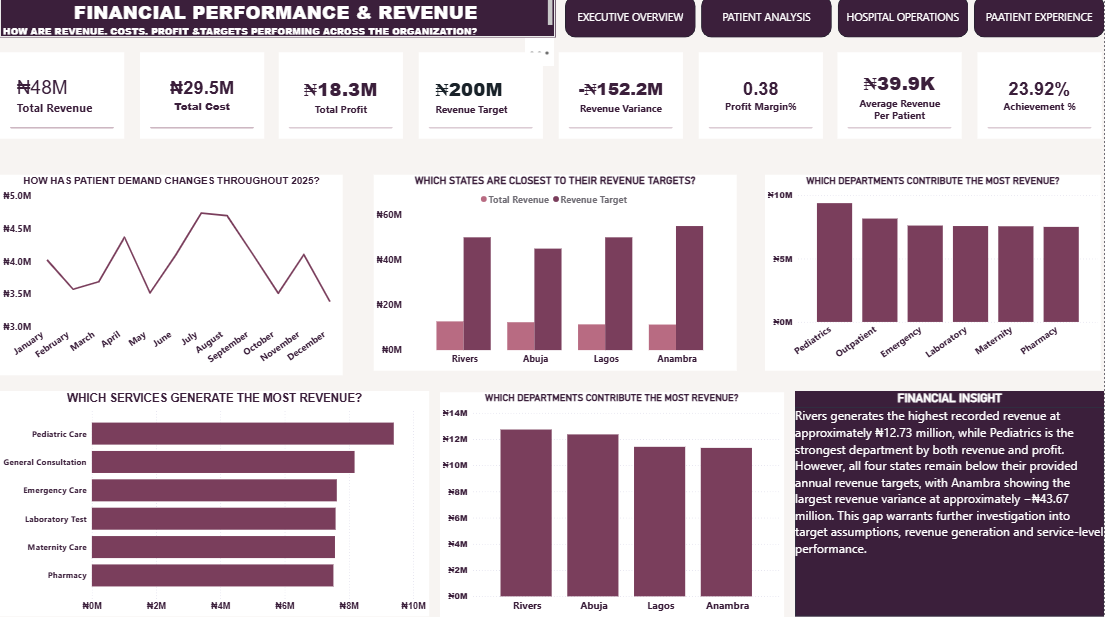

The page's visual inventory and layout, read from the dashboard file:
{"tool":"powerbi","page":{"name":"FINANCIAL PERFORMANCE","canvas":[1920,1080],"ordinal":4},"visuals":[{"type":"textbox","box":[0,0,966,72],"z":0},{"type":"cardVisual","fields":{"Data":["Patient_Visits.Total Revenue"]},"box":[0,98,216,150],"z":1000},{"type":"cardVisual","fields":{"Data":["Dim_Branch.Total Profit"]},"box":[485.7,98,216,150],"z":2000},{"type":"cardVisual","fields":{"Data":["Patient_Visits.Total Cost"]},"box":[242.9,98,216,150],"z":3000},{"type":"cardVisual","fields":{"Data":["Dim_Branch.Revenue Variance"]},"box":[971.4,98,216,150],"z":4000},{"type":"cardVisual","fields":{"Data":["Dim_Branch.Profit Margin%"]},"box":[1214.3,98,216,150],"z":5000},{"type":"cardVisual","fields":{"Data":["Dim_Branch.Revenue Target"]},"box":[728.6,98,216,150],"z":6000},{"type":"cardVisual","fields":{"Data":["Dim_Branch.Average Revenue Per Patient"]},"box":[1457.1,98,216,150],"z":7000},{"type":"lineChart","title":"HOW HAS PATIENT DEMAND CHANGES THROUGHOUT 2025?","fields":{"Category":["Dim_Date.Month"],"Y":["Patient_Visits.Total Revenue"]},"box":[0,311.8,596.1,349],"z":8000},{"type":"clusteredColumnChart","title":"WHICH DEPARTMENTS CONTRIBUTE THE MOST REVENUE?","fields":{"Y":["Patient_Visits.Total Revenue"],"Category":["Dim_Department.Department"]},"box":[1331.4,311.8,584.3,341.2],"z":9000},{"type":"clusteredBarChart","title":"WHICH SERVICES GENERATE THE MOST REVENUE?","fields":{"Y":["Patient_Visits.Total Revenue"],"Category":["Patient_Visits.Service"]},"box":[0,688,746,392],"z":10000},{"type":"clusteredColumnChart","title":"WHICH STATES ARE CLOSEST TO THEIR REVENUE TARGETS?","fields":{"Category":["Dim_state.State"],"Y":["Patient_Visits.Total Revenue","Dim_Branch.Revenue Target"]},"box":[651,311.8,631.4,341.2],"z":11000},{"type":"pageNavigator","box":[982,0,938,72],"z":12000},{"type":"cardVisual","fields":{"Data":["Dim_Branch.Achievement %"]},"box":[1700,98,216,150],"z":13000},{"type":"clusteredColumnChart","title":"WHICH DEPARTMENTS CONTRIBUTE THE MOST REVENUE?","fields":{"Y":["Patient_Visits.Total Revenue"],"Category":["Dim_state.State"]},"box":[764.7,688.2,598,392.2],"z":14000},{"type":"shape","title":"FINANCIAL INSIGHT","box":[1382,688,538,392],"z":15000},{"type":"actionButton","title":"INSIGHT","box":[0,0,100,20],"z":16000},{"type":"actionButton","title":"CLOSE","box":[0,20,108.3,26.7],"z":17000}]}

Visuals, with their boxes in screenshot pixels (x1, y1, x2, y2), scaled from the page's 1920x1080 canvas onto the 1105x617 screenshot:
textbox: detection(0, 0, 556, 41)
cardVisual - Patient_Visits.Total Revenue: detection(0, 56, 124, 142)
cardVisual - Dim_Branch.Total Profit: detection(280, 56, 404, 142)
cardVisual - Patient_Visits.Total Cost: detection(140, 56, 264, 142)
cardVisual - Dim_Branch.Revenue Variance: detection(559, 56, 683, 142)
cardVisual - Dim_Branch.Profit Margin%: detection(699, 56, 823, 142)
cardVisual - Dim_Branch.Revenue Target: detection(419, 56, 544, 142)
cardVisual - Dim_Branch.Average Revenue Per Patient: detection(839, 56, 963, 142)
"HOW HAS PATIENT DEMAND CHANGES THROUGHOUT 2025?" lineChart: detection(0, 178, 343, 378)
"WHICH DEPARTMENTS CONTRIBUTE THE MOST REVENUE?" clusteredColumnChart: detection(766, 178, 1103, 373)
"WHICH SERVICES GENERATE THE MOST REVENUE?" clusteredBarChart: detection(0, 393, 429, 616)
"WHICH STATES ARE CLOSEST TO THEIR REVENUE TARGETS?" clusteredColumnChart: detection(375, 178, 738, 373)
pageNavigator: detection(565, 0, 1104, 41)
cardVisual - Dim_Branch.Achievement %: detection(978, 56, 1103, 142)
"WHICH DEPARTMENTS CONTRIBUTE THE MOST REVENUE?" clusteredColumnChart: detection(440, 393, 784, 616)
"FINANCIAL INSIGHT" shape: detection(795, 393, 1104, 616)
"INSIGHT" actionButton: detection(0, 0, 58, 11)
"CLOSE" actionButton: detection(0, 11, 62, 27)
